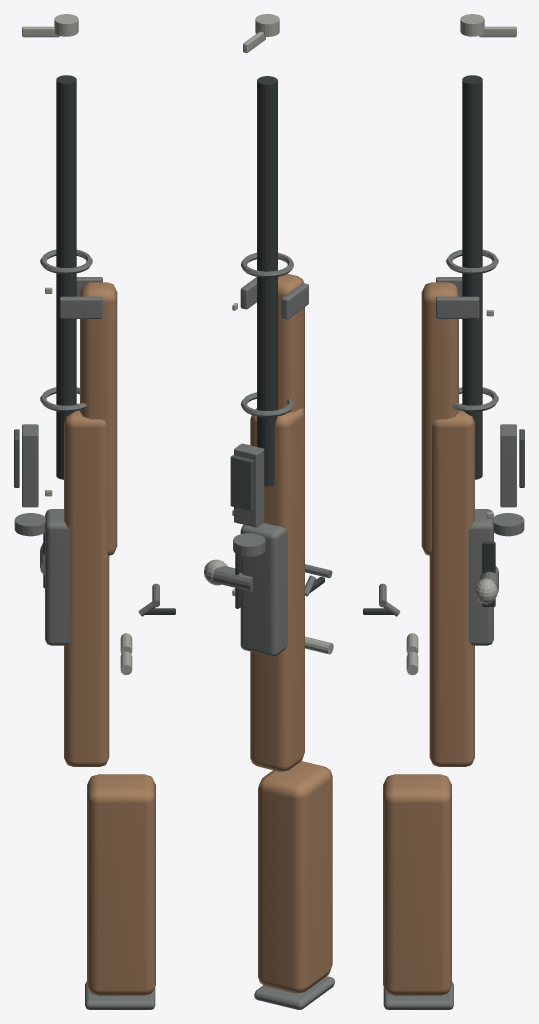
Rendered from wave24_mosin.glb.
3 views of the same model, side by side, from view 1: azimuth 90°, elevation 25°; view 2: azimuth 150°, elevation 25°; view 3: azimuth 270°, elevation 25° (orthographic).
Visible parts, largest first — view 1: mosin contoured hardwood butt, mosin long hardwood forearm, mosin barrel forged steel, mosin lower walnut forestock, mosin precision receiver, mosin rear ladder sight base, mosin textured military buttplate, mosin steel barrel retainer -1, mosin chamber sight notch, mosin barrel band 1.18, mosin muzzle crown, mosin barrel band 0.84 (+1 smaller); view 2: mosin contoured hardwood butt, mosin long hardwood forearm, mosin barrel forged steel, mosin precision receiver, mosin lower walnut forestock, mosin rear ladder sight base, mosin long rear ladder, mosin textured military buttplate, mosin chamber sight notch, mosin steel barrel retainer -1, mosin bent bolt handle, mosin barrel band 1.18 (+4 smaller); view 3: mosin contoured hardwood butt, mosin long hardwood forearm, mosin barrel forged steel, mosin lower walnut forestock, mosin precision receiver, mosin rear ladder sight base, mosin textured military buttplate, mosin steel barrel retainer 1, mosin chamber sight notch, mosin barrel band 1.18, mosin muzzle crown, mosin ejector bolt slot (+3 smaller).
Boxes of the visible parts, <box> form: mosin contoured hardwood butt: <box>87,774,155,995</box>; mosin long hardwood forearm: <box>64,403,109,766</box>; mosin barrel forged steel: <box>56,75,76,479</box>; mosin lower walnut forestock: <box>80,282,117,555</box>; mosin precision receiver: <box>45,509,70,645</box>; mosin rear ladder sight base: <box>22,424,38,507</box>; mosin textured military buttplate: <box>85,981,155,1009</box>; mosin steel barrel retainer -1: <box>59,296,102,318</box>; mosin chamber sight notch: <box>14,513,45,536</box>; mosin barrel band 1.18: <box>40,249,92,274</box>; mosin muzzle crown: <box>54,14,78,36</box>; mosin barrel band 0.84: <box>40,387,86,411</box>; mosin contoured hardwood butt: <box>258,761,332,993</box>; mosin long hardwood forearm: <box>250,408,304,771</box>; mosin barrel forged steel: <box>257,76,277,486</box>; mosin precision receiver: <box>240,522,287,656</box>; mosin lower walnut forestock: <box>278,273,304,412</box>; mosin rear ladder sight base: <box>234,443,264,527</box>; mosin long rear ladder: <box>230,455,253,510</box>; mosin textured military buttplate: <box>254,976,334,1009</box>; mosin chamber sight notch: <box>233,533,265,556</box>; mosin steel barrel retainer -1: <box>281,283,308,319</box>; mosin bent bolt handle: <box>213,566,252,591</box>; mosin barrel band 1.18: <box>241,252,293,277</box>; mosin contoured hardwood butt: <box>383,774,451,995</box>; mosin long hardwood forearm: <box>429,403,474,766</box>; mosin barrel forged steel: <box>462,75,482,479</box>; mosin lower walnut forestock: <box>421,282,458,555</box>; mosin precision receiver: <box>468,509,493,645</box>; mosin rear ladder sight base: <box>500,424,516,507</box>; mosin textured military buttplate: <box>383,981,453,1009</box>; mosin steel barrel retainer 1: <box>436,296,479,318</box>; mosin chamber sight notch: <box>493,513,524,536</box>; mosin barrel band 1.18: <box>446,249,498,274</box>; mosin muzzle crown: <box>460,14,484,36</box>; mosin ejector bolt slot: <box>482,541,495,606</box>.
Size of the model in its own units: 0.2242 by 2.42 by 0.3625.
